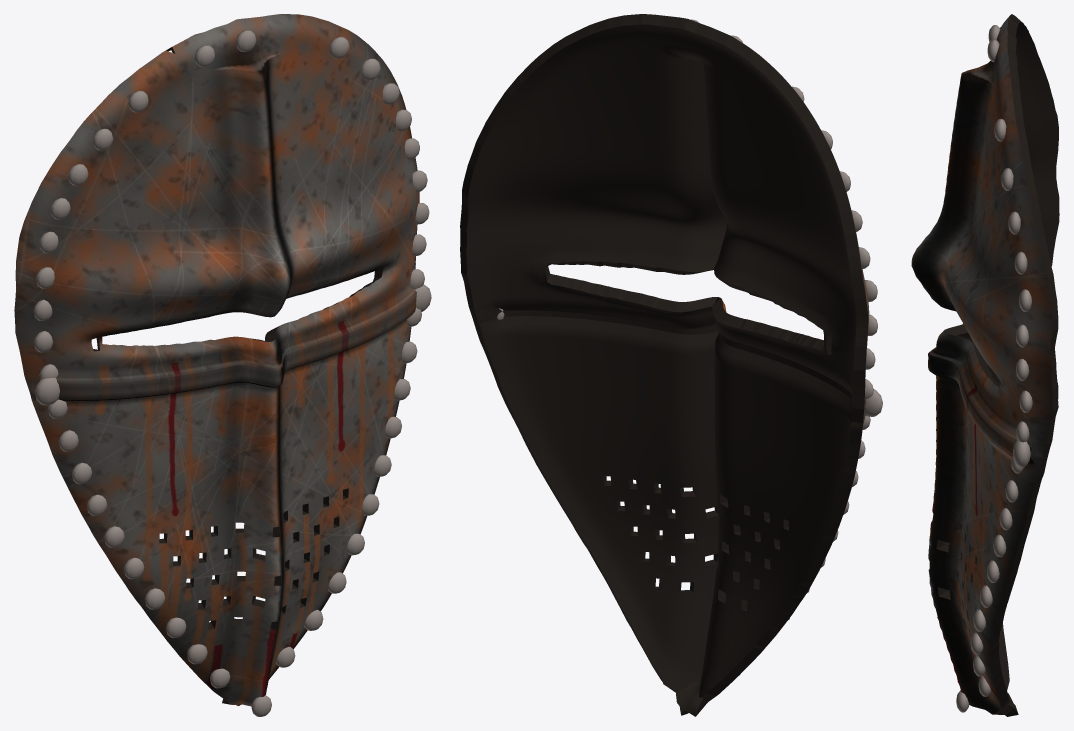
Rendered from 鉄の処刑面_tetsumen.glb.
The picture shows the model from 3 angles, left to right: view 1: azimuth 30°, elevation 25°; view 2: azimuth 150°, elevation 25°; view 3: azimuth 270°, elevation 25°; orthographic projection.
Visible parts, largest first — view 1: tetsumen; view 2: tetsumen; view 3: tetsumen.
Boxes of the visible parts, <box> form: tetsumen: <box>14,14,431,716</box>; tetsumen: <box>460,14,882,716</box>; tetsumen: <box>911,14,1059,716</box>.
Size of the model in its own units: 0.1799 by 0.2931 by 0.0575.
2 materials, 1 textured.
